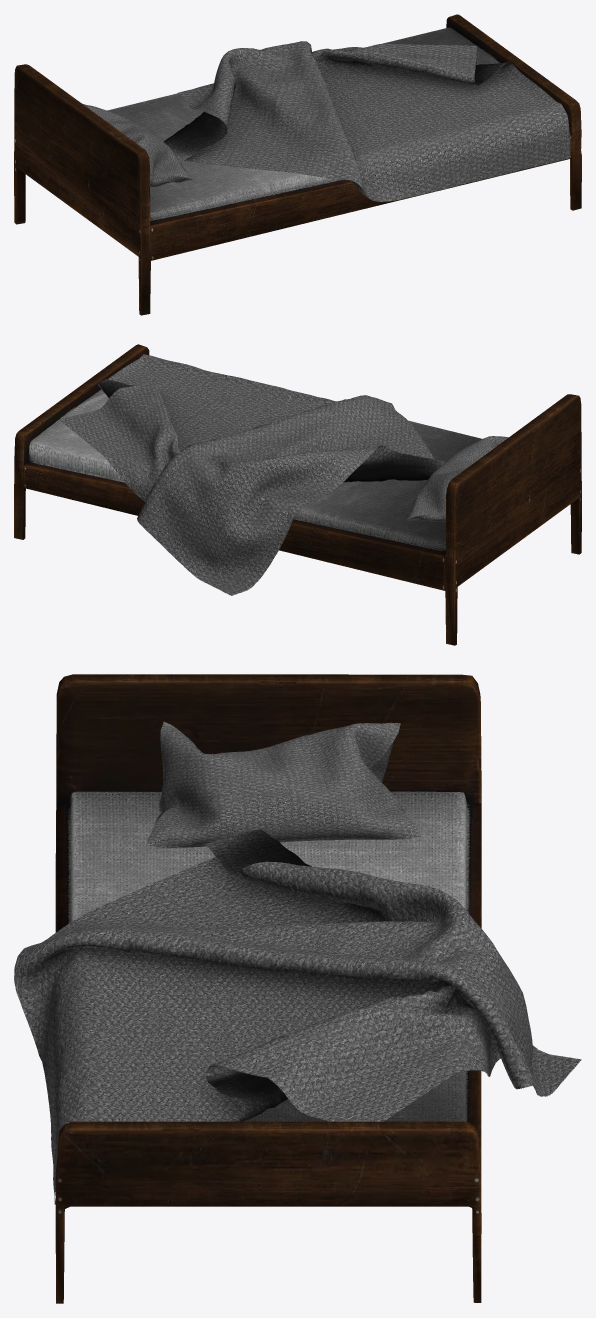
The model's file is Bed.glb.
The picture shows the model from 3 angles, top to bottom: view 1: azimuth 30°, elevation 25°; view 2: azimuth 150°, elevation 25°; view 3: azimuth 270°, elevation 25°; orthographic projection. The views are drawn at different scales.
Parts seen in each view (by area): view 1: Object_3, Object_2; view 2: Object_3, Object_2; view 3: Object_3, Object_2.
Boxes of the visible parts, box(x1,y1,x2,y2) form: Object_3: box(83, 41, 570, 202); Object_2: box(14, 14, 581, 315); Object_3: box(59, 354, 508, 595); Object_2: box(14, 344, 581, 645); Object_3: box(14, 721, 581, 1204); Object_2: box(55, 674, 481, 1303).
Bounding box in the file's own units: 20.03 × 6.97 × 13.31.
Materials: 2 (2 with a texture image).
